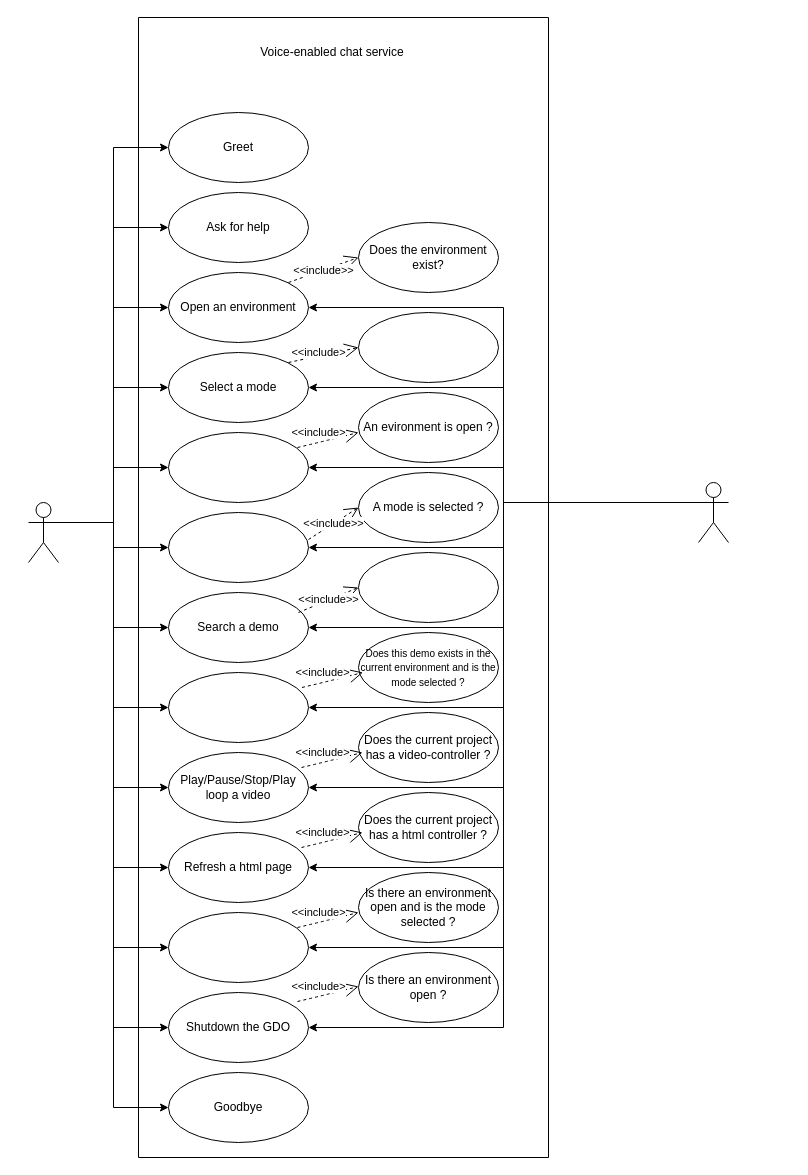
Image size: 808x1175. Some labels were removed from this diagram. The shapes that lost their labels are listed below. From the top down, each one's box as (x1, y1, x2, y2) in pixels, then its label:
(358, 312, 498, 382): Does the mode exist?
(168, 432, 308, 502): Turn on the GDO
(28, 502, 58, 562): Presenter
(698, 482, 728, 542): The Global Data Observatory
(168, 512, 308, 582): Open browsers
(358, 552, 498, 622): In which environment I am?
(168, 672, 308, 742): Open a demo
(168, 912, 308, 982): Close browsers
